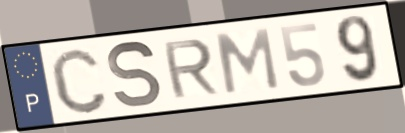5: (276, 20, 328, 89)
9: (335, 12, 384, 85)
C: (47, 45, 111, 116)
M: (213, 25, 282, 97)
R: (159, 36, 222, 101)
S: (105, 39, 165, 110)
